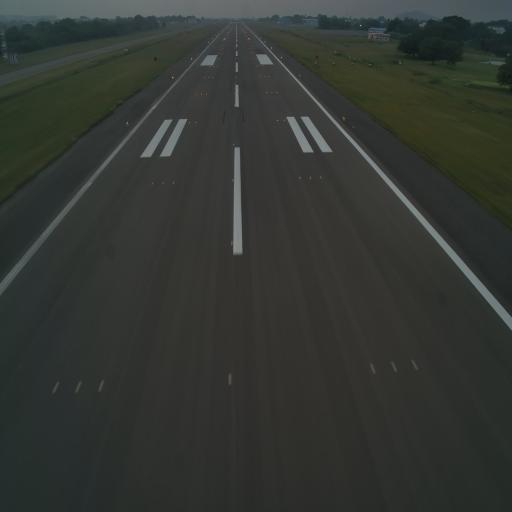off: (233, 118, 236, 124)
on: (224, 371, 234, 389), (231, 140, 237, 149), (171, 176, 176, 186), (124, 120, 130, 128), (230, 238, 234, 248), (298, 174, 303, 181), (151, 180, 155, 188), (161, 180, 165, 188), (342, 115, 346, 122), (232, 178, 236, 184), (309, 174, 313, 180), (319, 174, 323, 180), (181, 120, 184, 125), (289, 117, 292, 122), (188, 120, 190, 126), (195, 119, 197, 125), (284, 118, 286, 123), (277, 118, 279, 122)
